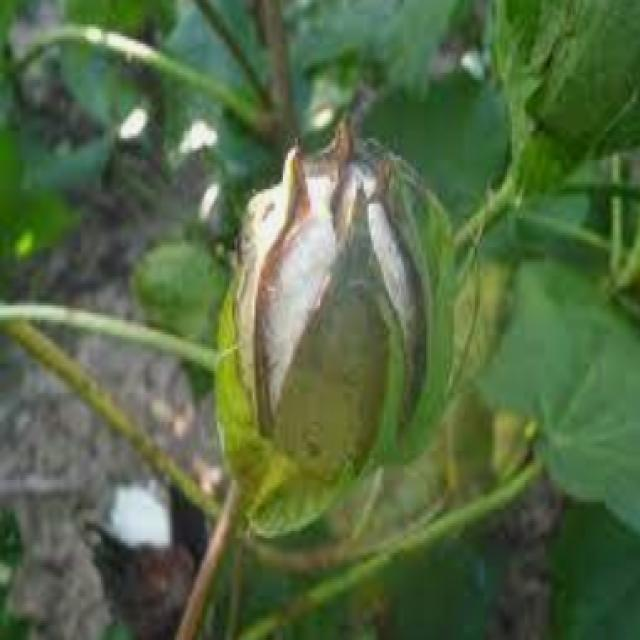Early Boll: (490, 0, 640, 179)
Split Cotton Boll: (224, 132, 467, 485)
